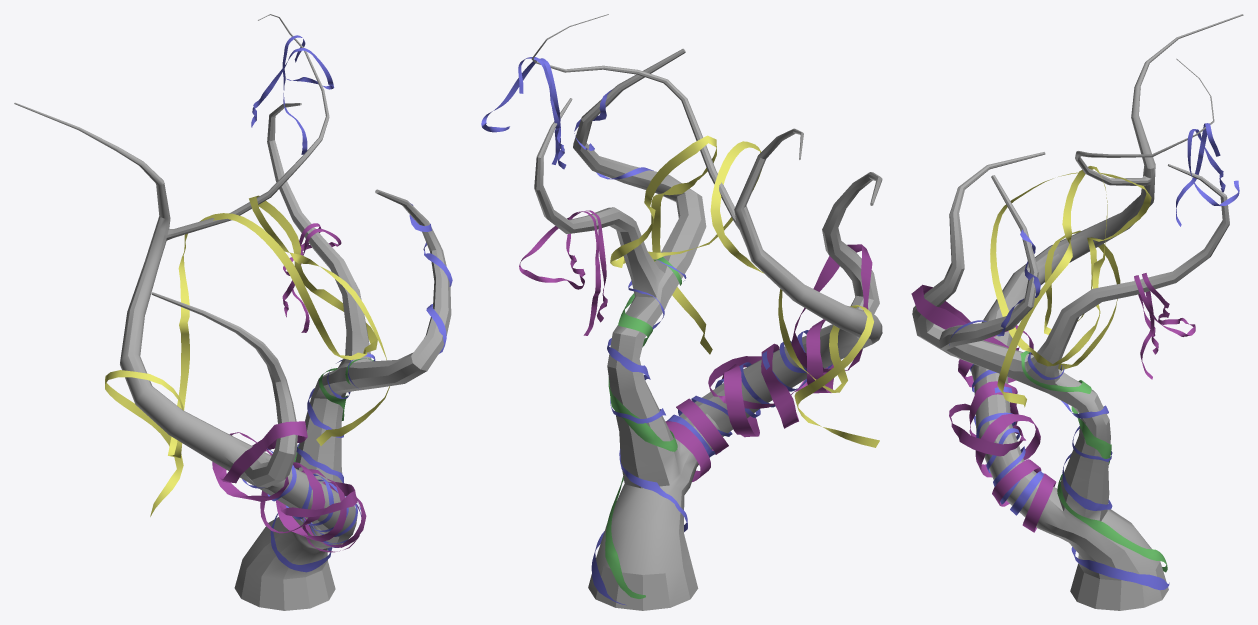
The model's file is tree122503.fbx.
The picture shows the model from 3 angles, left to right: view 1: azimuth 30°, elevation 25°; view 2: azimuth 150°, elevation 25°; view 3: azimuth 270°, elevation 25°; orthographic projection. The views are drawn at different scales.
Visible parts, largest first — view 1: tree01, rib; view 2: tree01, rib; view 3: tree01, rib.
Boxes of the visible parts, left/top/right/bottom form: tree01: left=14, top=14, right=451, bottom=610; rib: left=105, top=35, right=452, bottom=516; tree01: left=531, top=14, right=882, bottom=610; rib: left=481, top=57, right=879, bottom=447; tree01: left=911, top=14, right=1243, bottom=610; rib: left=949, top=123, right=1239, bottom=407.
Size of the model in its own units: 988 by 1624 by 915.
